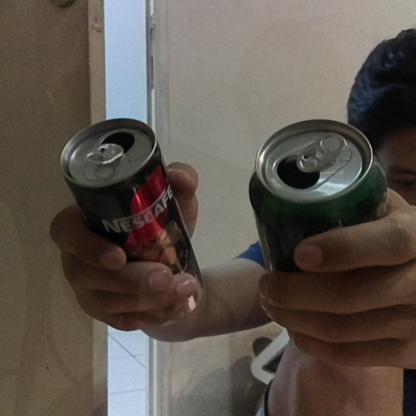alumunium_can: (55, 114, 203, 330), (244, 121, 388, 276)
